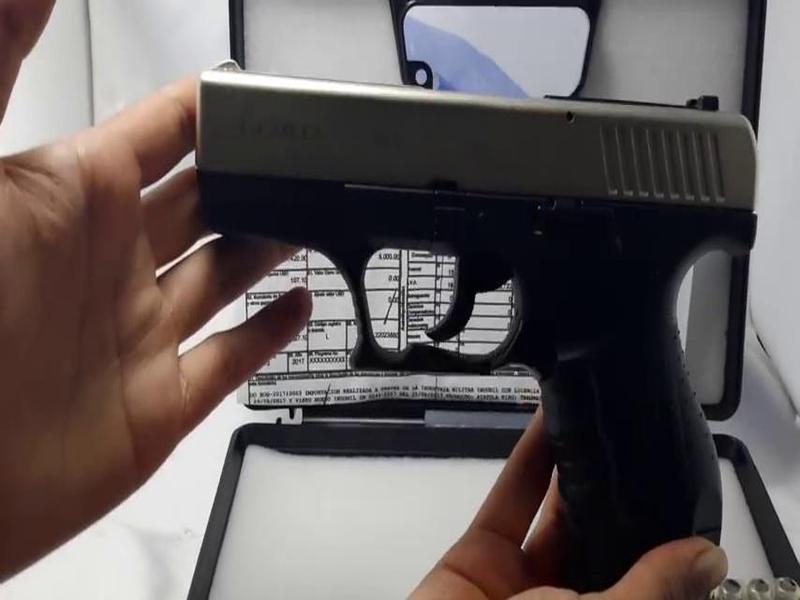Pistola: (150, 53, 755, 576)
